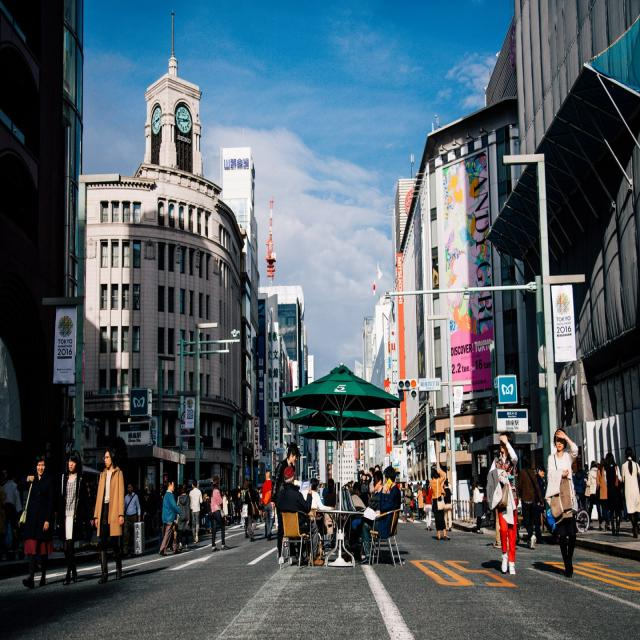body: (318, 479, 410, 546), (55, 449, 95, 586), (544, 426, 580, 578), (275, 465, 324, 567), (485, 430, 519, 577), (18, 454, 54, 589), (92, 446, 126, 586), (356, 464, 402, 565), (270, 441, 300, 565), (516, 452, 544, 550), (157, 479, 182, 557), (620, 446, 640, 540), (603, 451, 624, 537), (429, 467, 451, 541), (122, 483, 141, 560), (584, 460, 604, 532), (210, 473, 228, 552), (175, 482, 192, 551), (596, 457, 611, 532), (533, 465, 547, 545), (243, 478, 260, 543), (188, 477, 203, 546), (0, 465, 11, 557), (261, 471, 275, 542), (308, 478, 335, 514), (2, 471, 24, 514), (573, 464, 587, 511), (422, 479, 434, 531), (357, 468, 372, 508), (473, 481, 484, 535), (370, 470, 384, 511), (443, 479, 453, 532), (202, 492, 214, 535), (324, 476, 340, 508), (352, 480, 370, 508), (402, 482, 414, 522), (413, 482, 425, 520), (233, 491, 243, 526), (145, 483, 155, 515), (228, 494, 236, 524), (222, 491, 229, 523), (242, 480, 250, 505), (582, 463, 590, 481)
